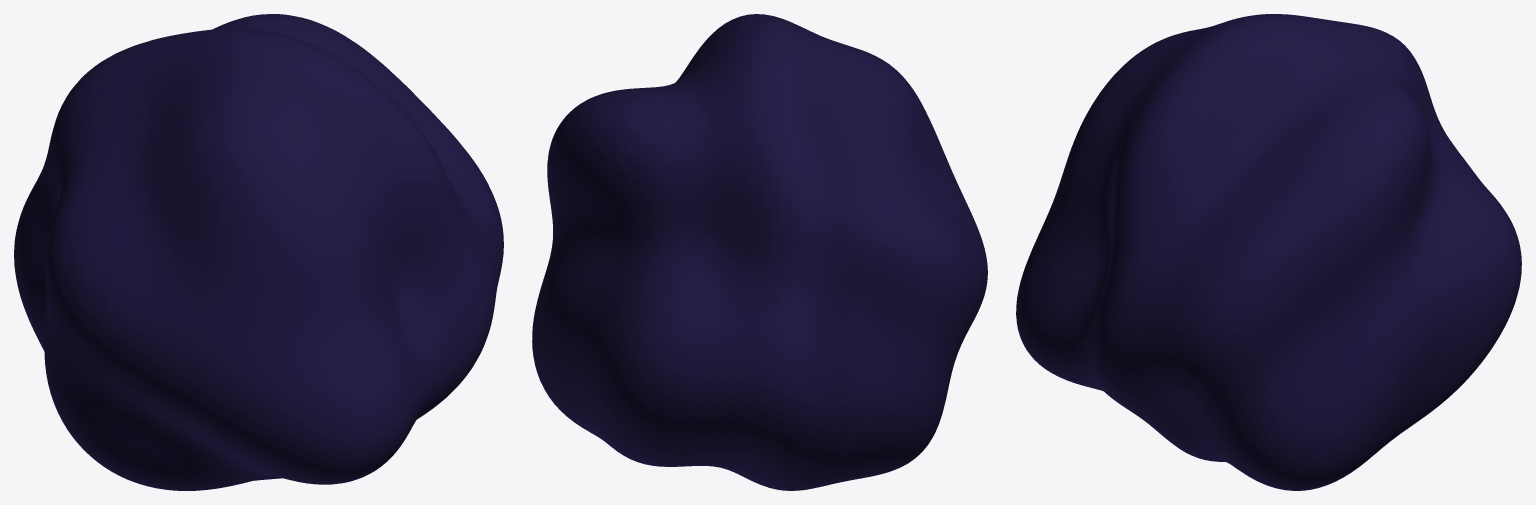
Rendered from deco-organic.glb.
3 views of the same model, side by side, from view 1: azimuth 30°, elevation 25°; view 2: azimuth 150°, elevation 25°; view 3: azimuth 270°, elevation 25° (orthographic). The views are drawn at different scales.
Bounding box in the file's own units: 2.64 × 2.62 × 2.85.
